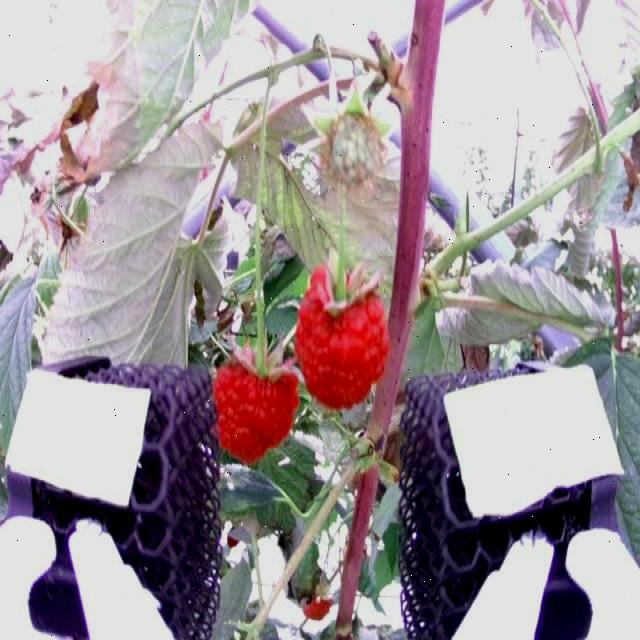Riped berries: (296, 268, 391, 415), (207, 343, 302, 473)
